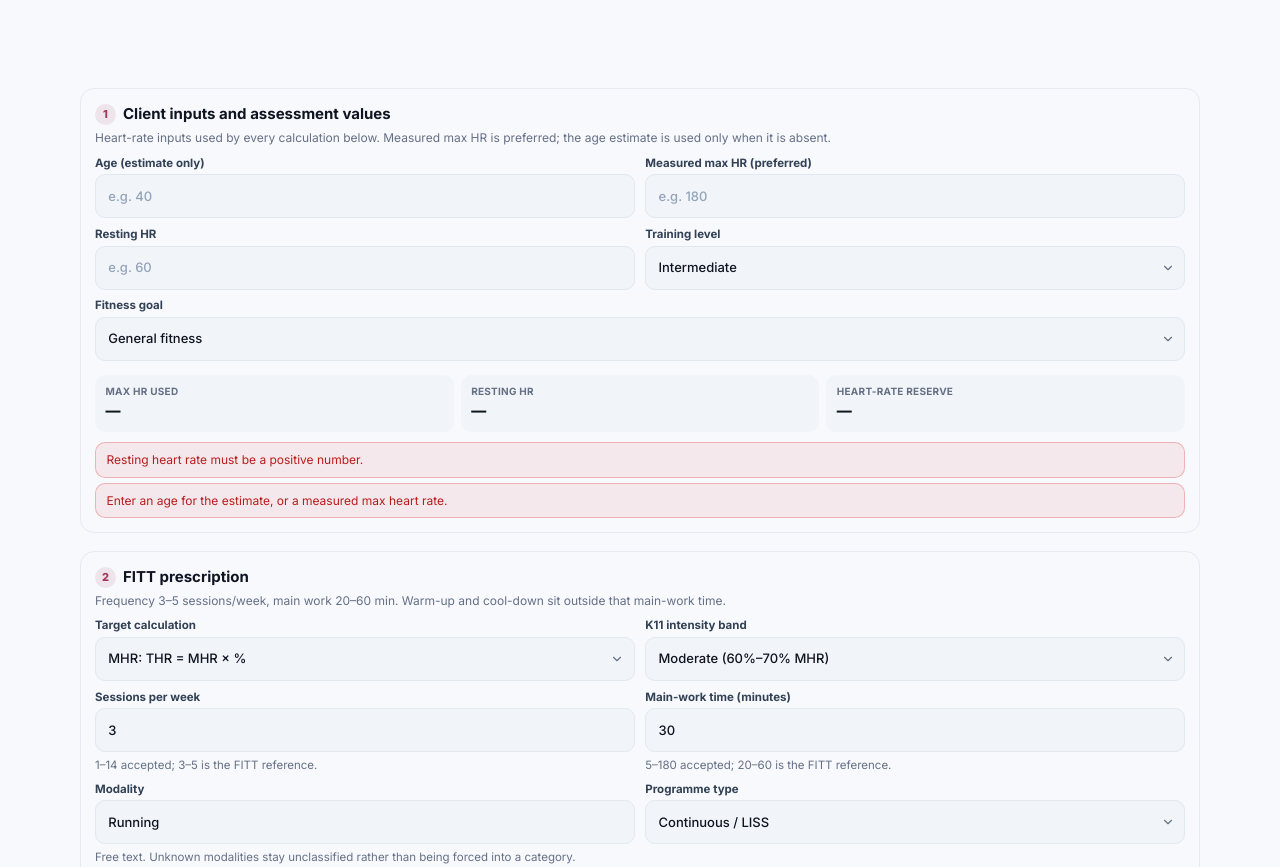
Test case: <CardioCalculatorPage /> › switches to Karvonen without moving the band percentages off %MHR
Type "40" into the field with placeholder "e.g. 40" at (365, 196), box [95,174,635,218]
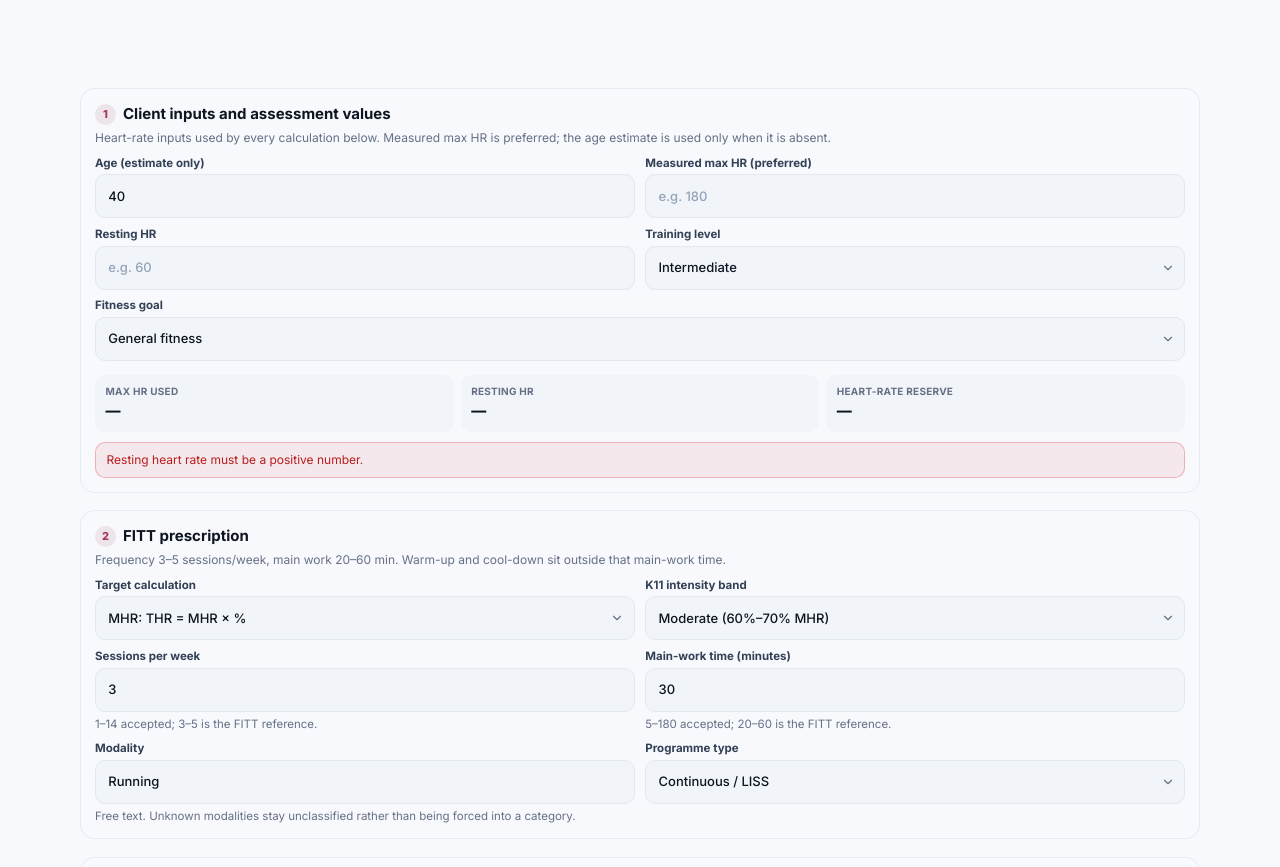
Type "60" into the field with placeholder "e.g. 60" at (365, 268), box [95,246,635,290]
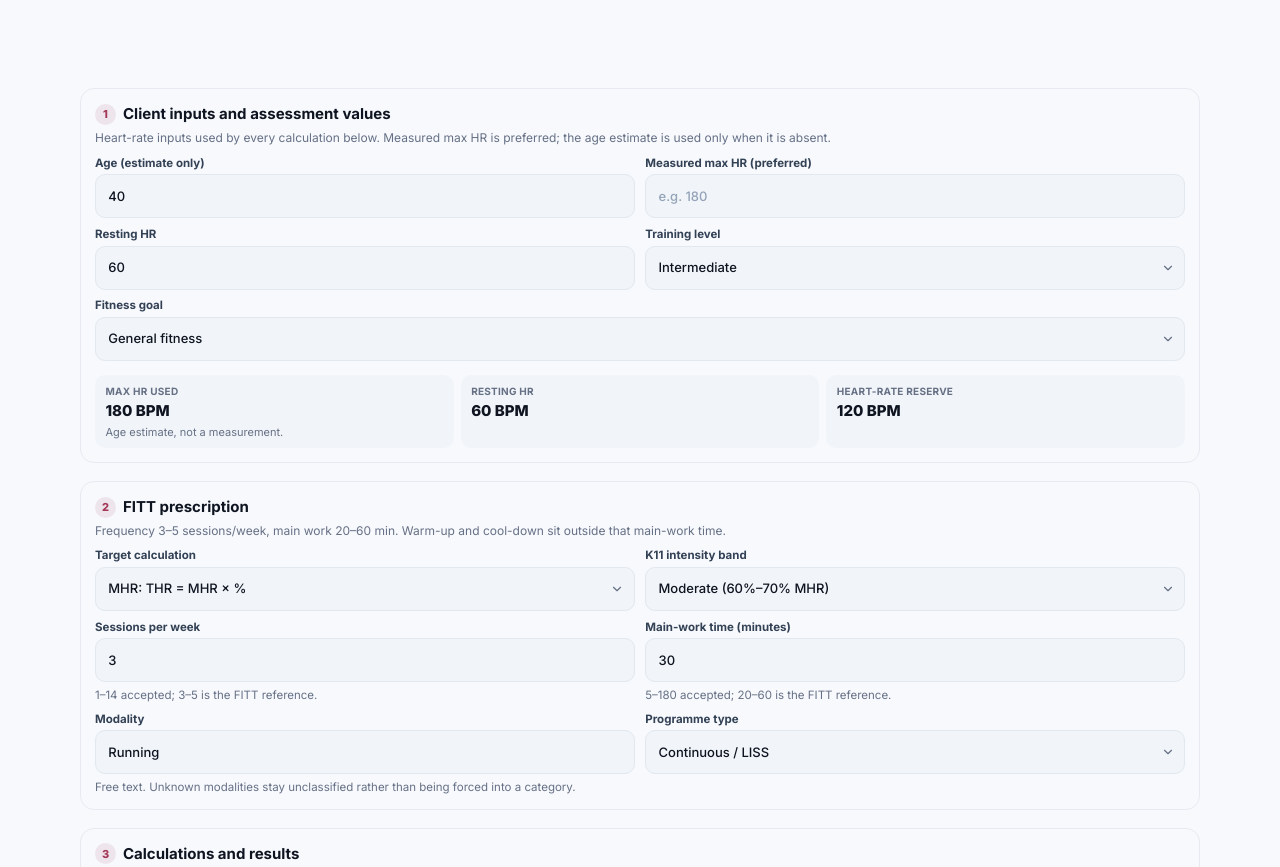
Select "Karvonen: THR = ((MHR − RHR) × %) + RHR" in the dropdown "Karvonen: THR" at (365, 589), box [95,567,635,611]
(page scrolled)
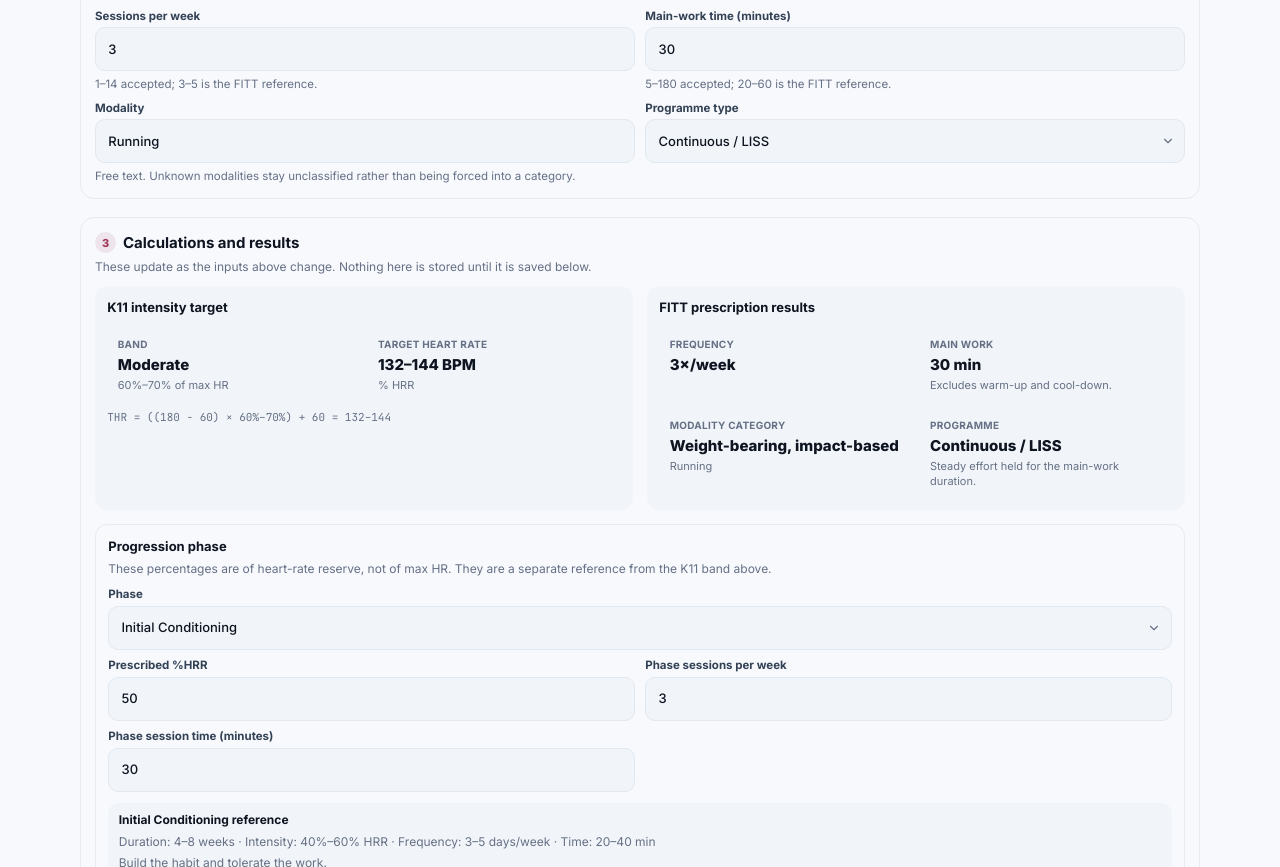
expect the text "132–144 BPM" is shown: met, box [378,355,476,374]
expect the text "THR = ((180 − 60) × 60%–70%) + 60 = 132–144" is shown: met, box [107,410,391,424]
